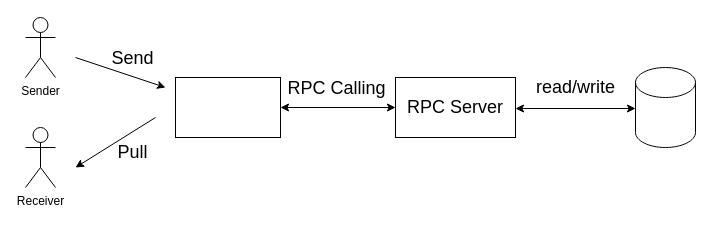
This 713x226 diagram has some shape labels left out. The shapes that lost their labels are listed below. From the top down, each one's box as (x1, y1, x2, y2) in pixels, then its label:
(174, 76, 280, 138): HTTP API
(634, 66, 696, 148): DB
